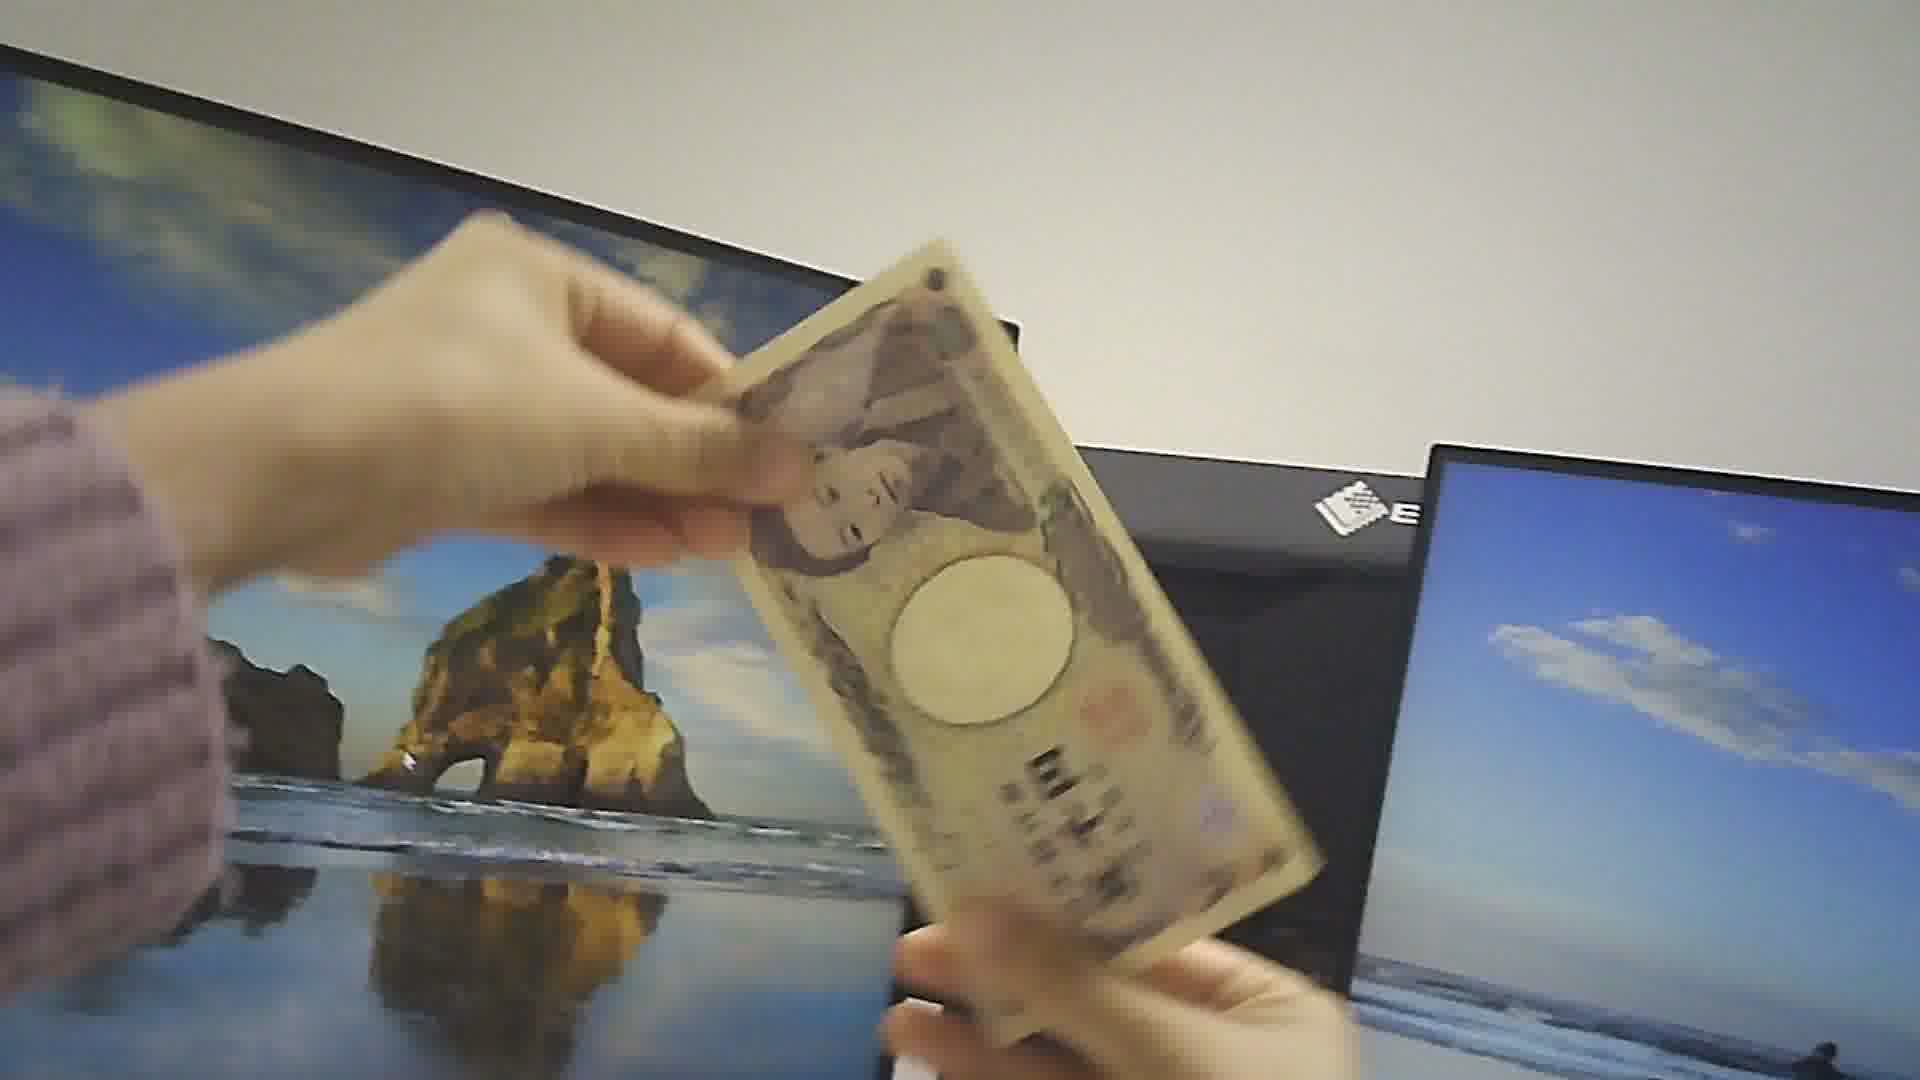5,000 Yen: (650, 227, 1315, 1000)
